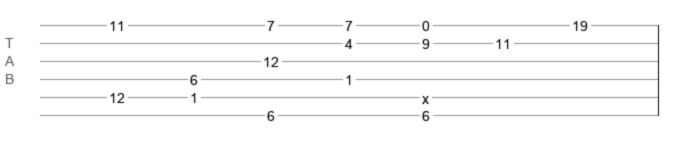0: (422, 18, 430, 28)
1: (190, 90, 198, 100), (345, 72, 353, 82)
11: (109, 18, 125, 28), (495, 36, 511, 46)
12: (109, 90, 125, 100), (263, 54, 279, 64)
19: (572, 18, 588, 28)
4: (345, 36, 353, 46)
6: (190, 72, 198, 82), (267, 108, 275, 118), (422, 108, 430, 118)
7: (267, 18, 275, 28), (345, 18, 353, 28)
9: (422, 36, 430, 46)
x: (422, 91, 429, 99)
